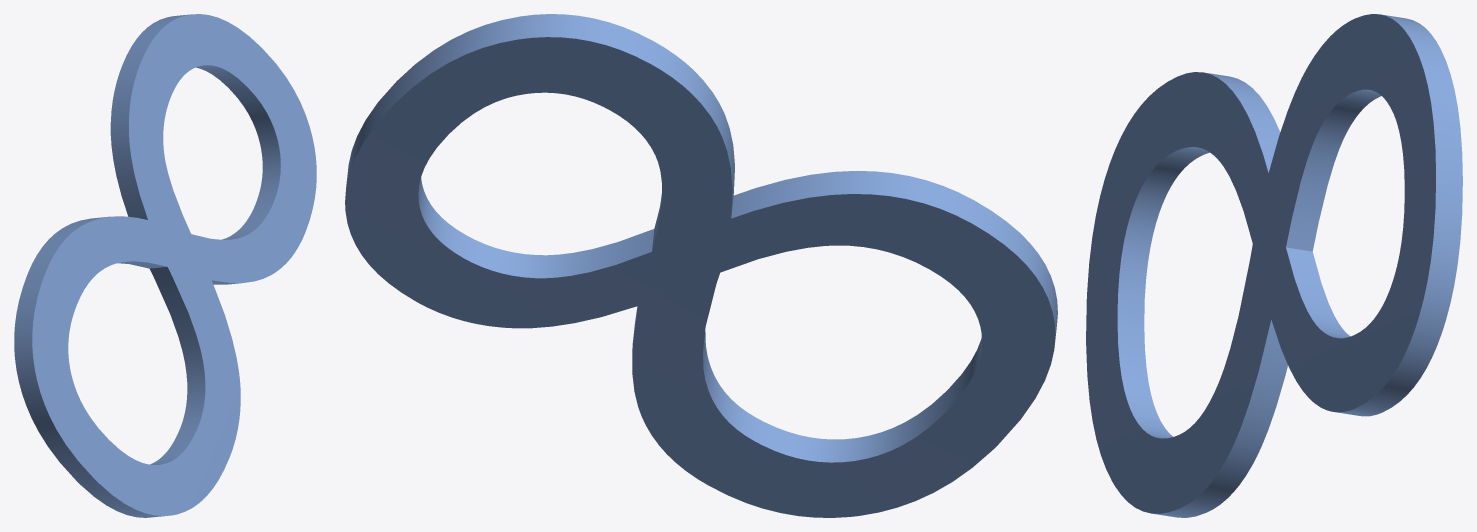
The model's file is New_Number_8.gltf.
3 renders of one model, left to right at view 1: azimuth 30°, elevation 25°; view 2: azimuth 150°, elevation 25°; view 3: azimuth 270°, elevation 25°, orthographic. The views are drawn at different scales.
Visible parts, largest first — view 1: Part 8; view 2: Part 8; view 3: Part 8.
Part boxes in pixels (x1,y1,x2,y2): Part 8: (14, 14, 316, 517); Part 8: (345, 14, 1057, 517); Part 8: (1086, 14, 1462, 517).
Size of the model in its own units: 0.005 by 0.00482 by 0.00305.
